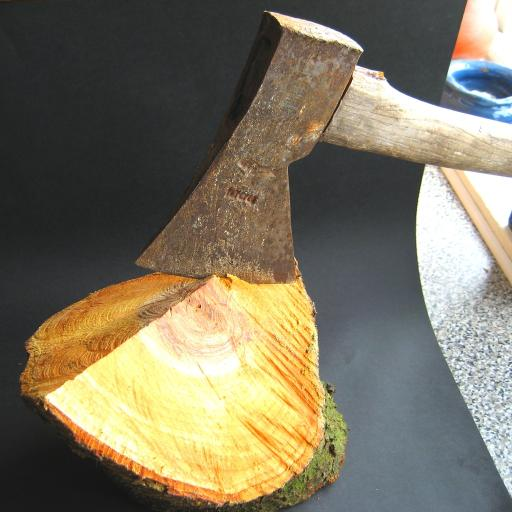Axe: (132, 8, 512, 287)
